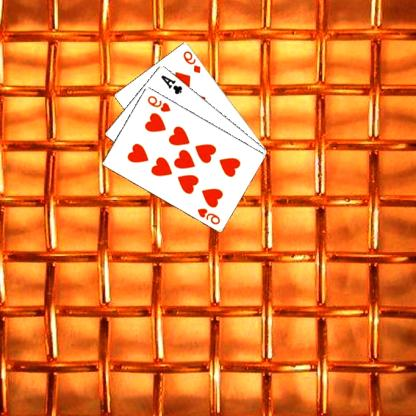9D: (182, 48, 204, 74)
9H: (196, 205, 224, 226), (146, 93, 174, 113)
AC: (160, 72, 185, 95)
